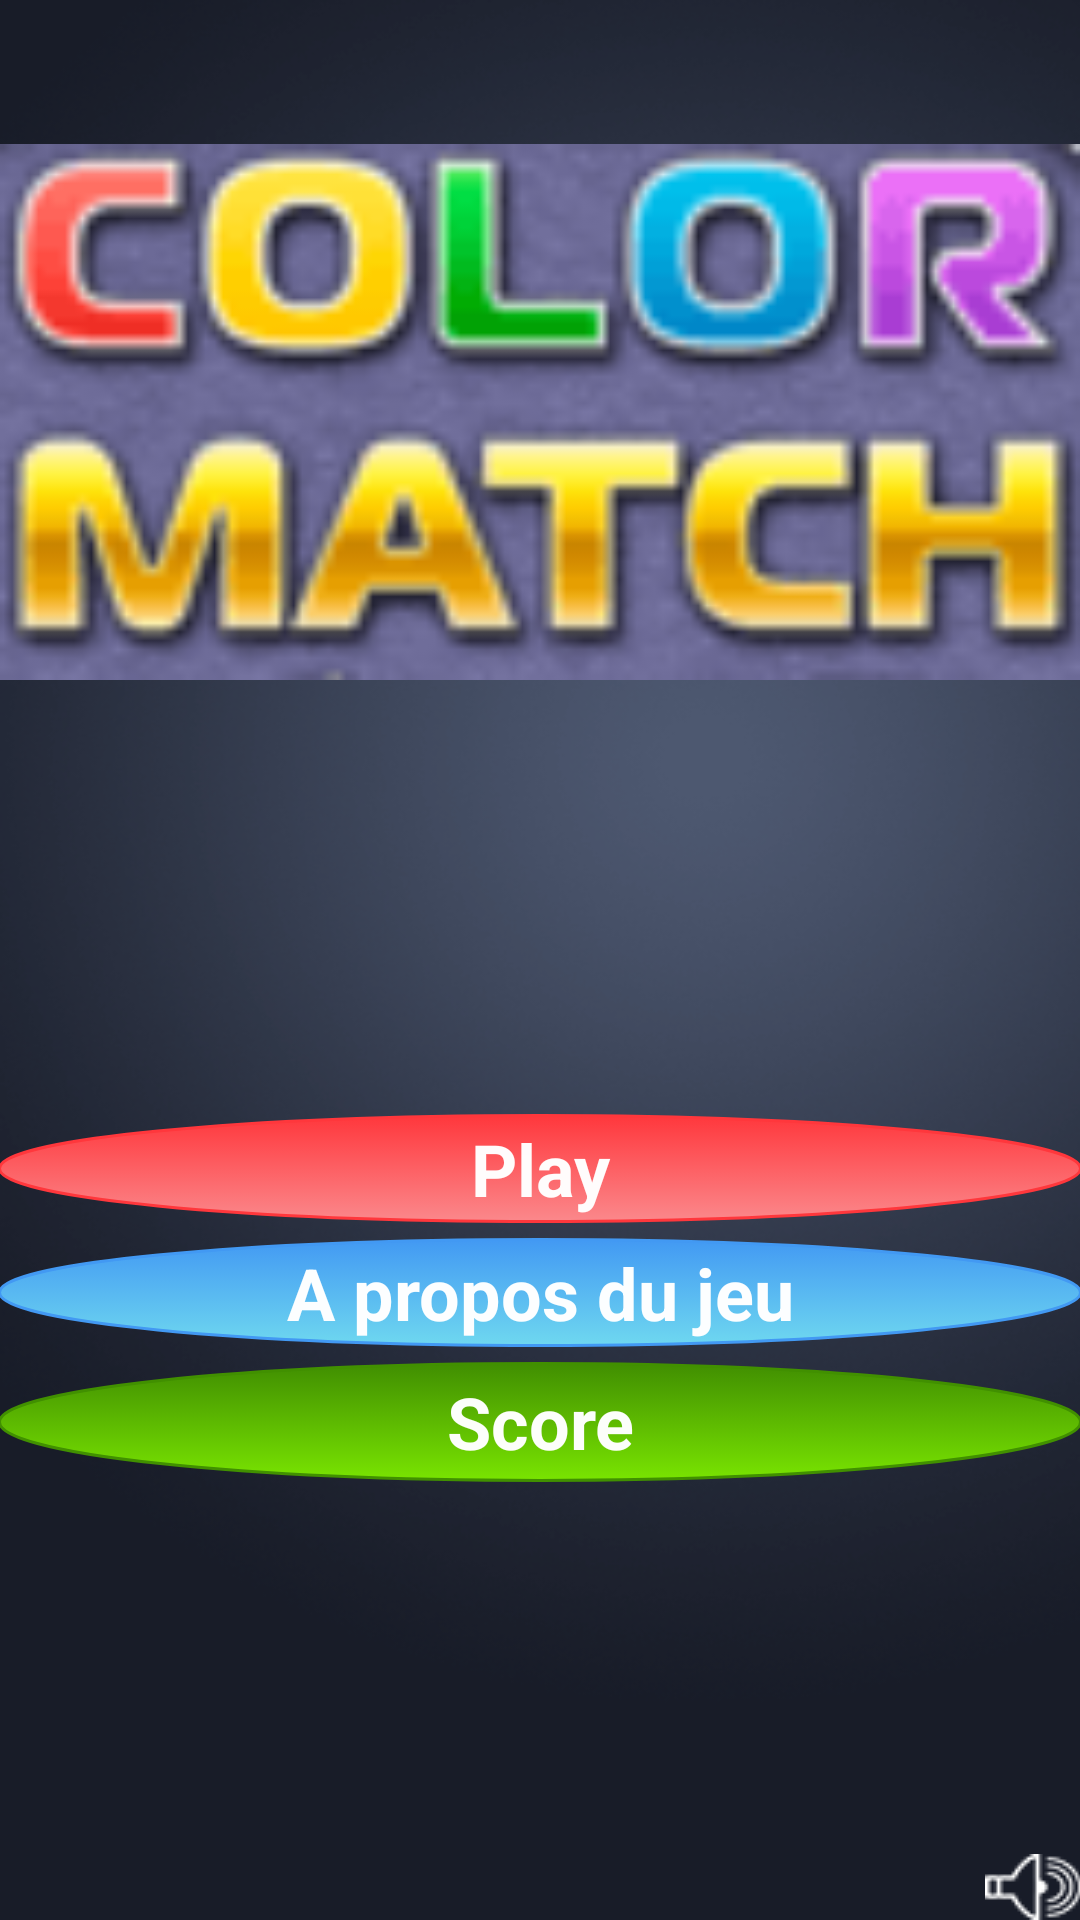

Icons on this 1080 × 1920 Android screen, each with its box as (left=x1, top=y1, right=x2, bottom=y2):
sound: (left=985, top=1854, right=1080, bottom=1920)
